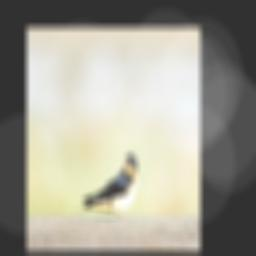Swallow: (72, 153, 139, 220)
